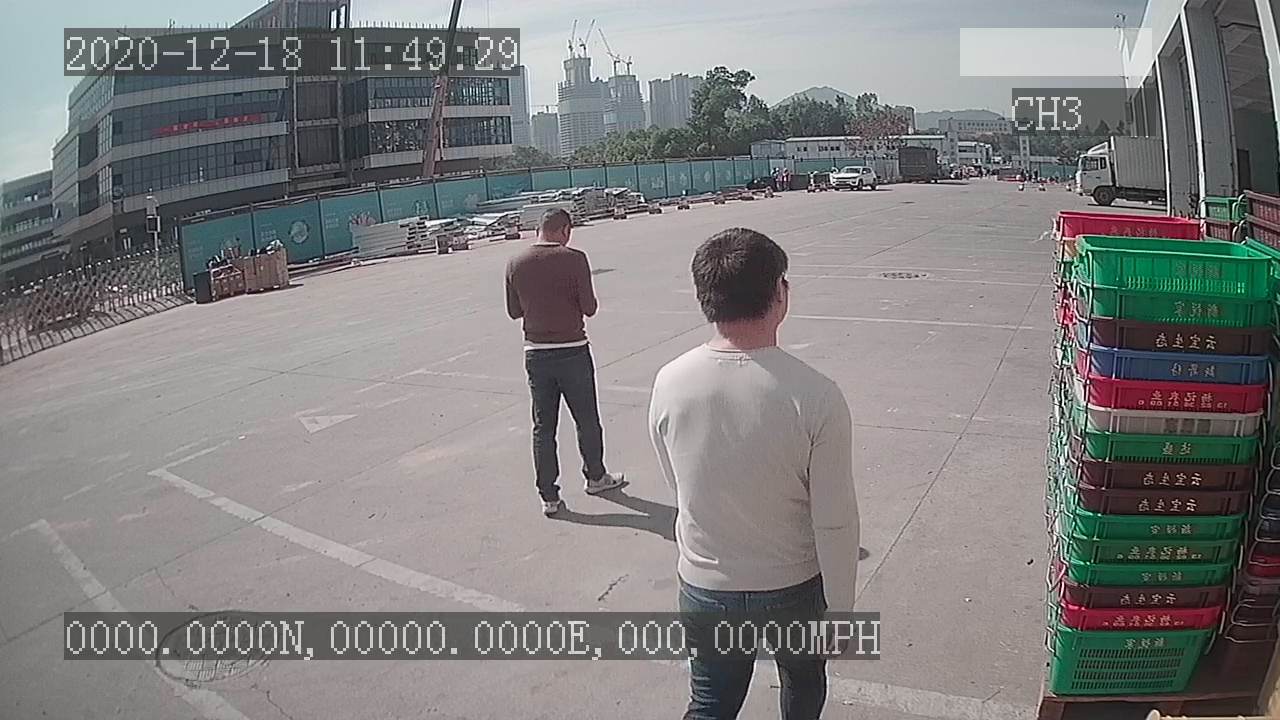person: (501, 204, 631, 522)
